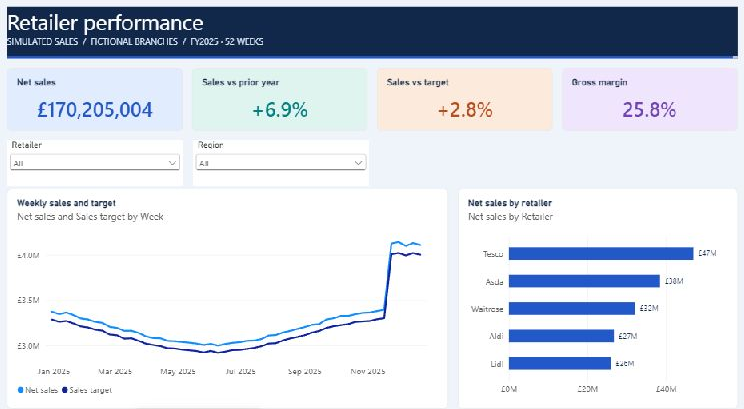

The dashboard page shown, as its layout file describes it:
{"tool":"tableau","page":{"name":"Retailer performance","canvas":[1150,730],"ordinal":0},"visuals":[{"type":"text","box":[16.1,13.1,1117.8,48.2]},{"type":"text","box":[16.1,61.3,1117.8,31.4]},{"type":"text","box":[16.1,92.7,1117.8,5.8]},{"type":"worksheet","title":"Net sales","mark":"Text","box":[16.1,113.2,268.2,108]},{"type":"worksheet","title":"Sales vs prior year","mark":"Text","box":[299.3,113.2,268.2,108]},{"type":"worksheet","title":"Sales vs target","mark":"Text","box":[582.5,113.2,268.2,108]},{"type":"worksheet","title":"Gross margin","mark":"Text","box":[865.7,113.2,268.2,108]},{"type":"text","box":[16.1,233.6,1117.8,38]},{"type":"worksheet","title":"Weekly net sales","mark":"Line","rows":["NetSales"],"cols":["week"],"box":[16.1,284.7,695.8,425.6]},{"type":"worksheet","title":"Net sales by retailer","mark":"Bar","rows":["retailer"],"cols":["NetSales"],"box":[729.1,284.7,404.8,425.6]}]}

Visuals, with their boxes on the page's 1150x730 design canvas (x1, y1, x2, y2). These are canvas units, not pixel positions in the 744x409 screenshot, which may show the page scaled, cropped or inside an application window:
text: 16 13 1134 61
text: 16 61 1134 93
text: 16 93 1134 98
"Net sales" worksheet (Text marks): 16 113 284 221
"Sales vs prior year" worksheet (Text marks): 299 113 568 221
"Sales vs target" worksheet (Text marks): 582 113 851 221
"Gross margin" worksheet (Text marks): 866 113 1134 221
text: 16 234 1134 272
"Weekly net sales" worksheet (Line marks): 16 285 712 710
"Net sales by retailer" worksheet (Bar marks): 729 285 1134 710
